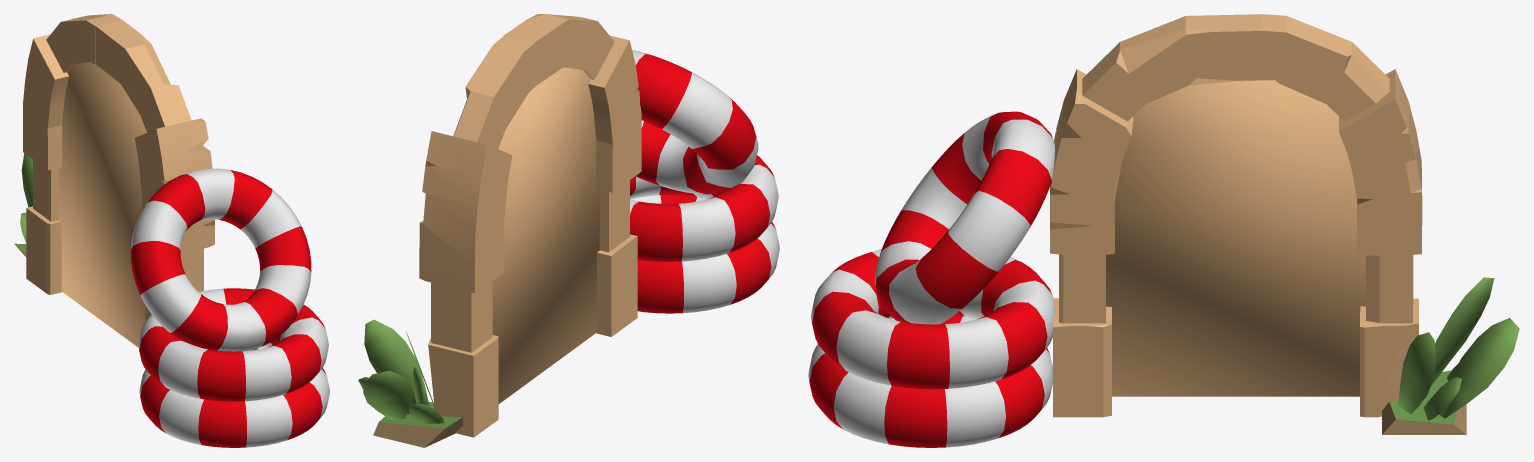
The model's file is shire4portal.fbx.
3 renders of one model, left to right at view 1: azimuth 30°, elevation 25°; view 2: azimuth 150°, elevation 25°; view 3: azimuth 270°, elevation 25°, orthographic. The views are drawn at different scales.
Parts seen in each view (by area): view 1: Cube.001, Torus.002, Plane, Torus.001, Torus, Plane.003; view 2: Cube.001, Plane, Torus.002, Torus.001, Torus, Plane.003, Plane.001; view 3: Plane, Cube.001, Torus.002, Torus.001, Torus, Plane.003, Plane.001.
Part boxes in pixels (<box>): Cube.001: <box>23,14,214,321</box>; Torus.002: <box>131,168,311,351</box>; Plane: <box>59,62,146,347</box>; Torus.001: <box>138,288,328,401</box>; Torus: <box>139,346,329,447</box>; Plane.003: <box>20,153,32,242</box>; Cube.001: <box>419,14,641,437</box>; Plane: <box>492,67,599,403</box>; Torus.002: <box>632,50,758,194</box>; Torus.001: <box>630,155,778,261</box>; Torus: <box>631,195,779,313</box>; Plane.003: <box>358,319,443,424</box>; Plane.001: <box>373,402,462,447</box>; Plane: <box>1106,80,1365,396</box>; Cube.001: <box>1050,14,1422,417</box>; Torus.002: <box>875,111,1054,324</box>; Torus.001: <box>811,249,1055,389</box>; Torus: <box>808,315,1052,447</box>; Plane.003: <box>1398,277,1519,420</box>; Plane.001: <box>1382,370,1466,434</box>.
Bounding box in the file's own units: 126 × 219 × 365.
Materials: 8 (1 with a texture image).
